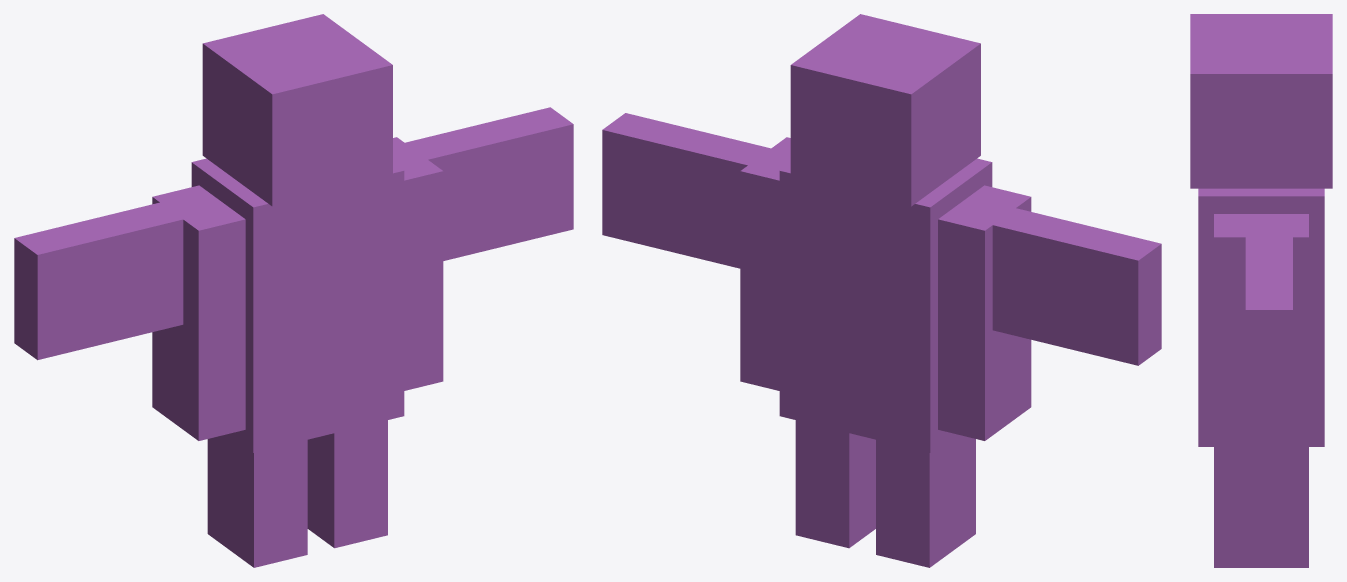
The model's file is actor_greek.obj.
3 renders of one model, left to right at view 1: azimuth 30°, elevation 25°; view 2: azimuth 150°, elevation 25°; view 3: azimuth 270°, elevation 25°, orthographic. The views are drawn at different scales.
Parts seen in each view (by area): view 1: actor_greek; view 2: actor_greek; view 3: actor_greek.
Boxes of the visible parts, x1=… form: actor_greek: x1=14, y1=14, x2=573, y2=567; actor_greek: x1=602, y1=14, x2=1161, y2=567; actor_greek: x1=1190, y1=14, x2=1332, y2=567.
Size of the model in its own units: 1.6 by 1.37 by 0.36.
